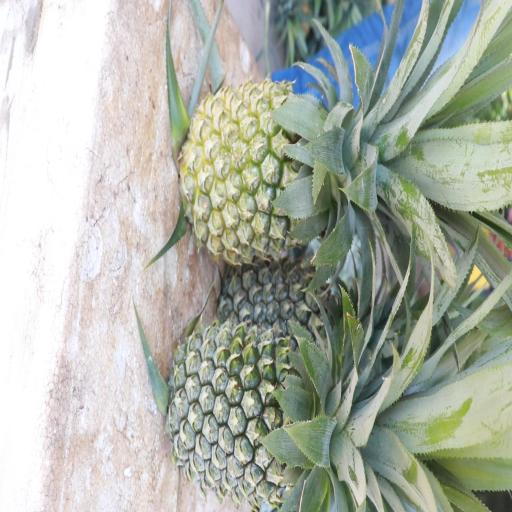Pineapple - v8 v1: (186, 82, 348, 264)
